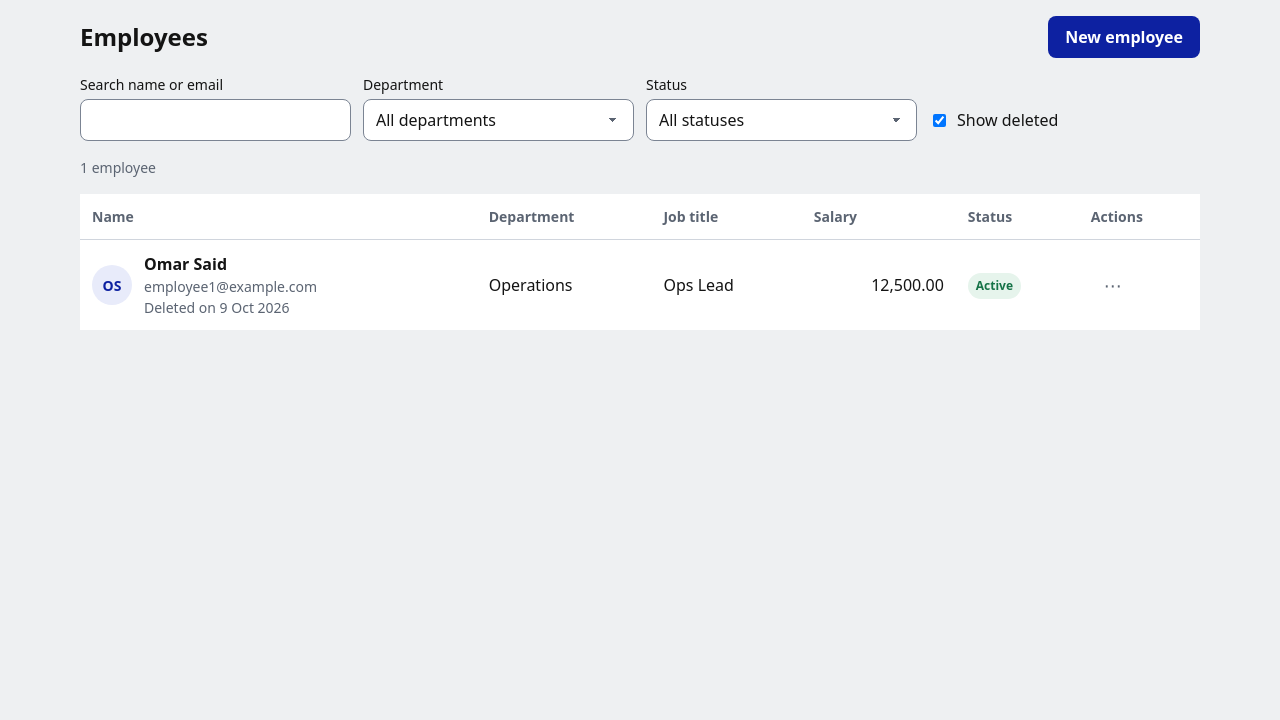
Test case: EmployeesPage - deleted view and restore › shows the server detail in an error toast and refetches when restore conflicts
The image size is (1280, 720).
Expected: the table is shown, [80,194,1200,330]
Click the button named "actions": {"x": 1113, "y": 285} [1091,266,1135,304]
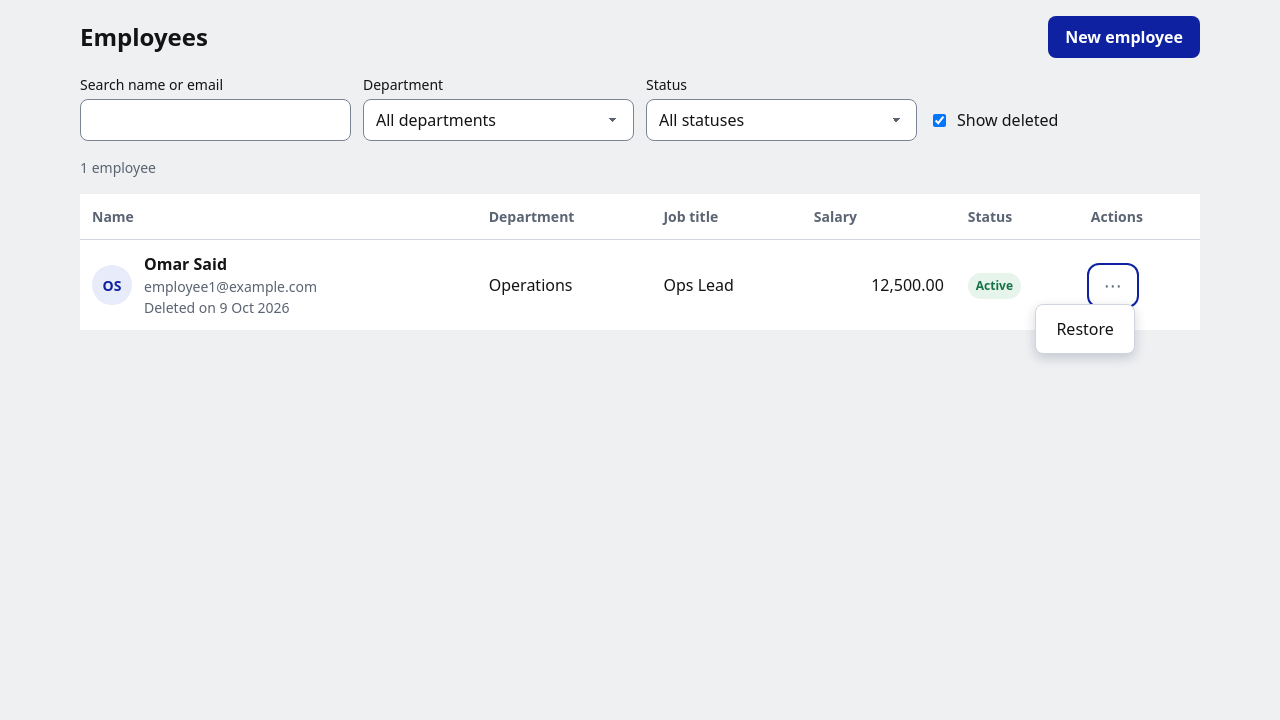
Click the menu item "Restore": {"x": 1085, "y": 328} [1040,308,1130,348]
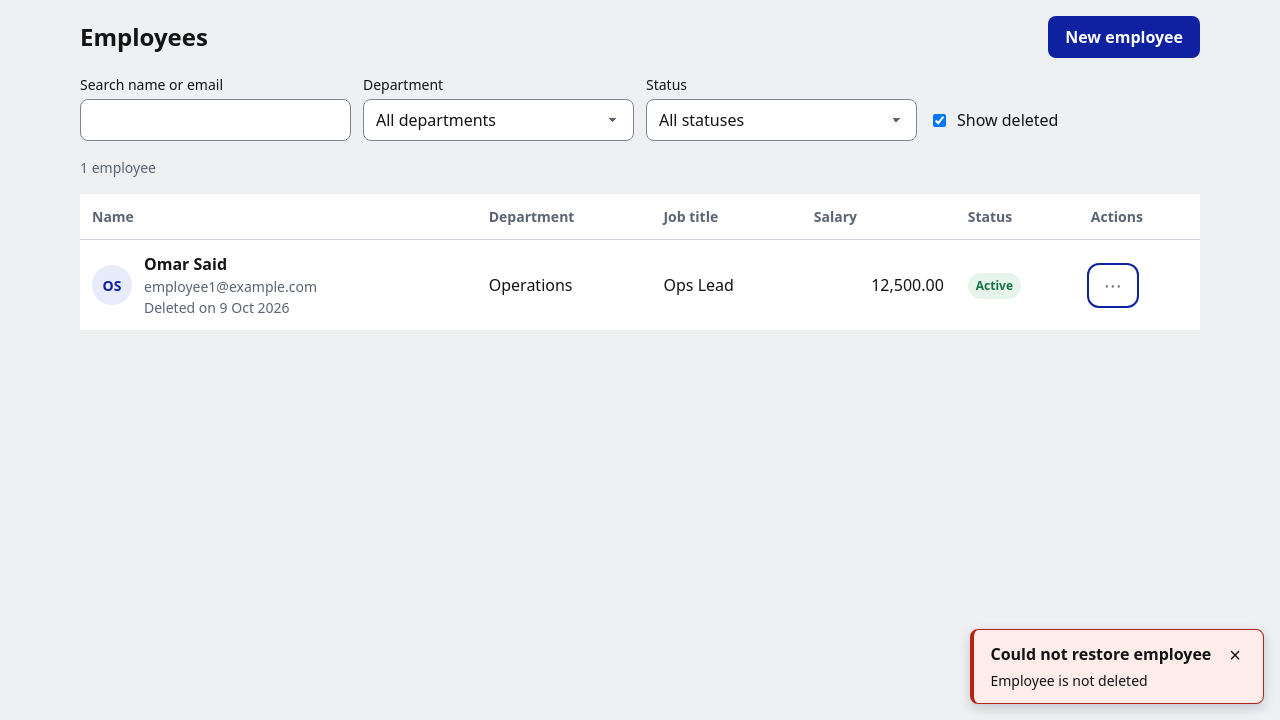
Expected: the text "Employee is not deleted" is shown, [990,671,1148,690]
